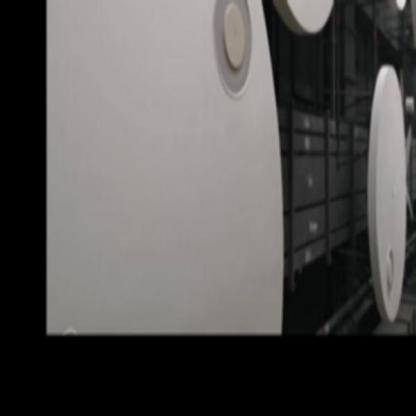light_off: (204, 0, 256, 121)
